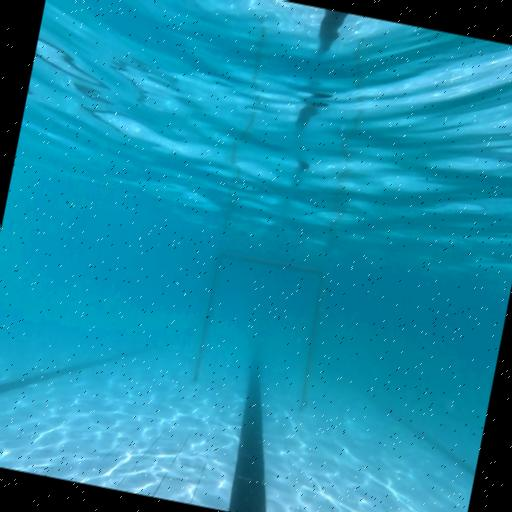gate: (191, 250, 332, 412)
